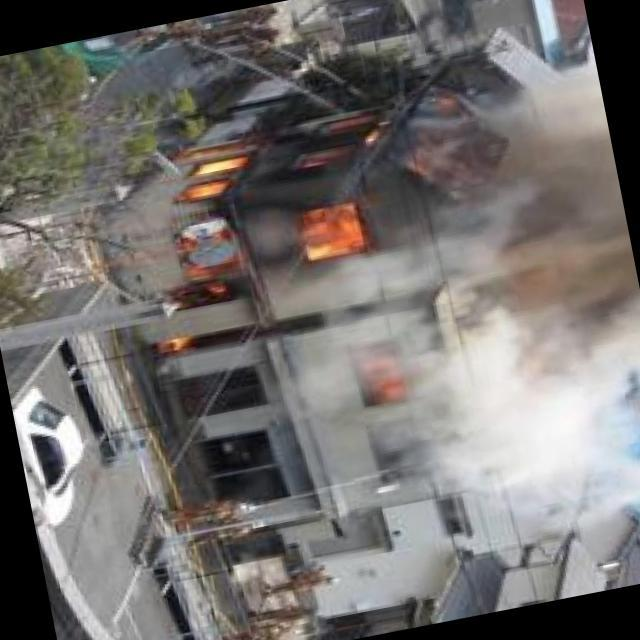Fire: (106, 63, 480, 364)
